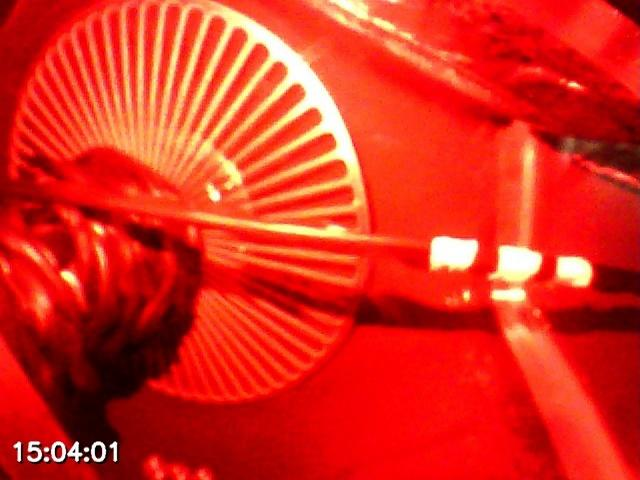white-dots: (430, 235, 593, 289)
